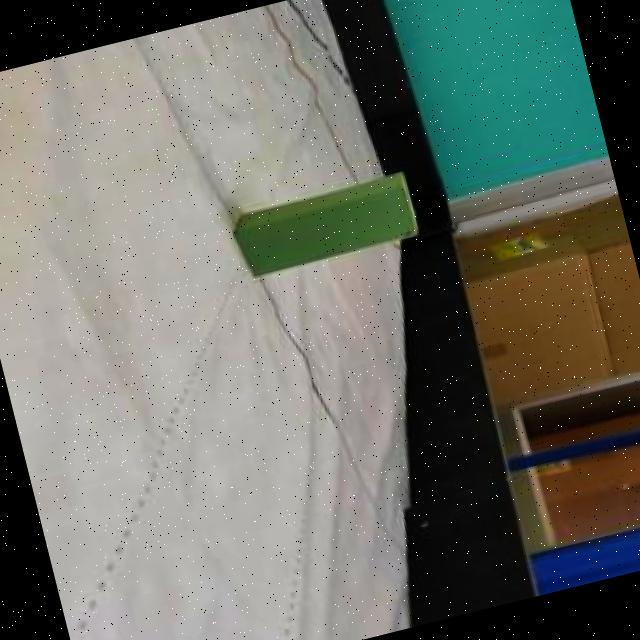greenbox: (226, 169, 423, 280)
